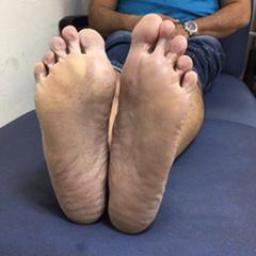Plantar View -Both Feet-: (28, 5, 204, 239)
